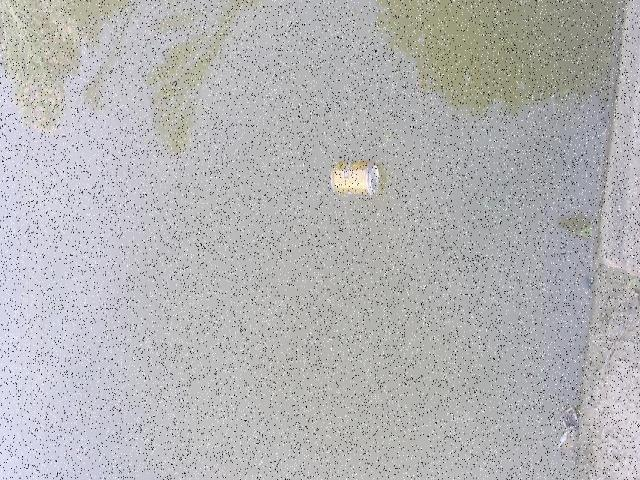Can: (324, 159, 390, 203)
